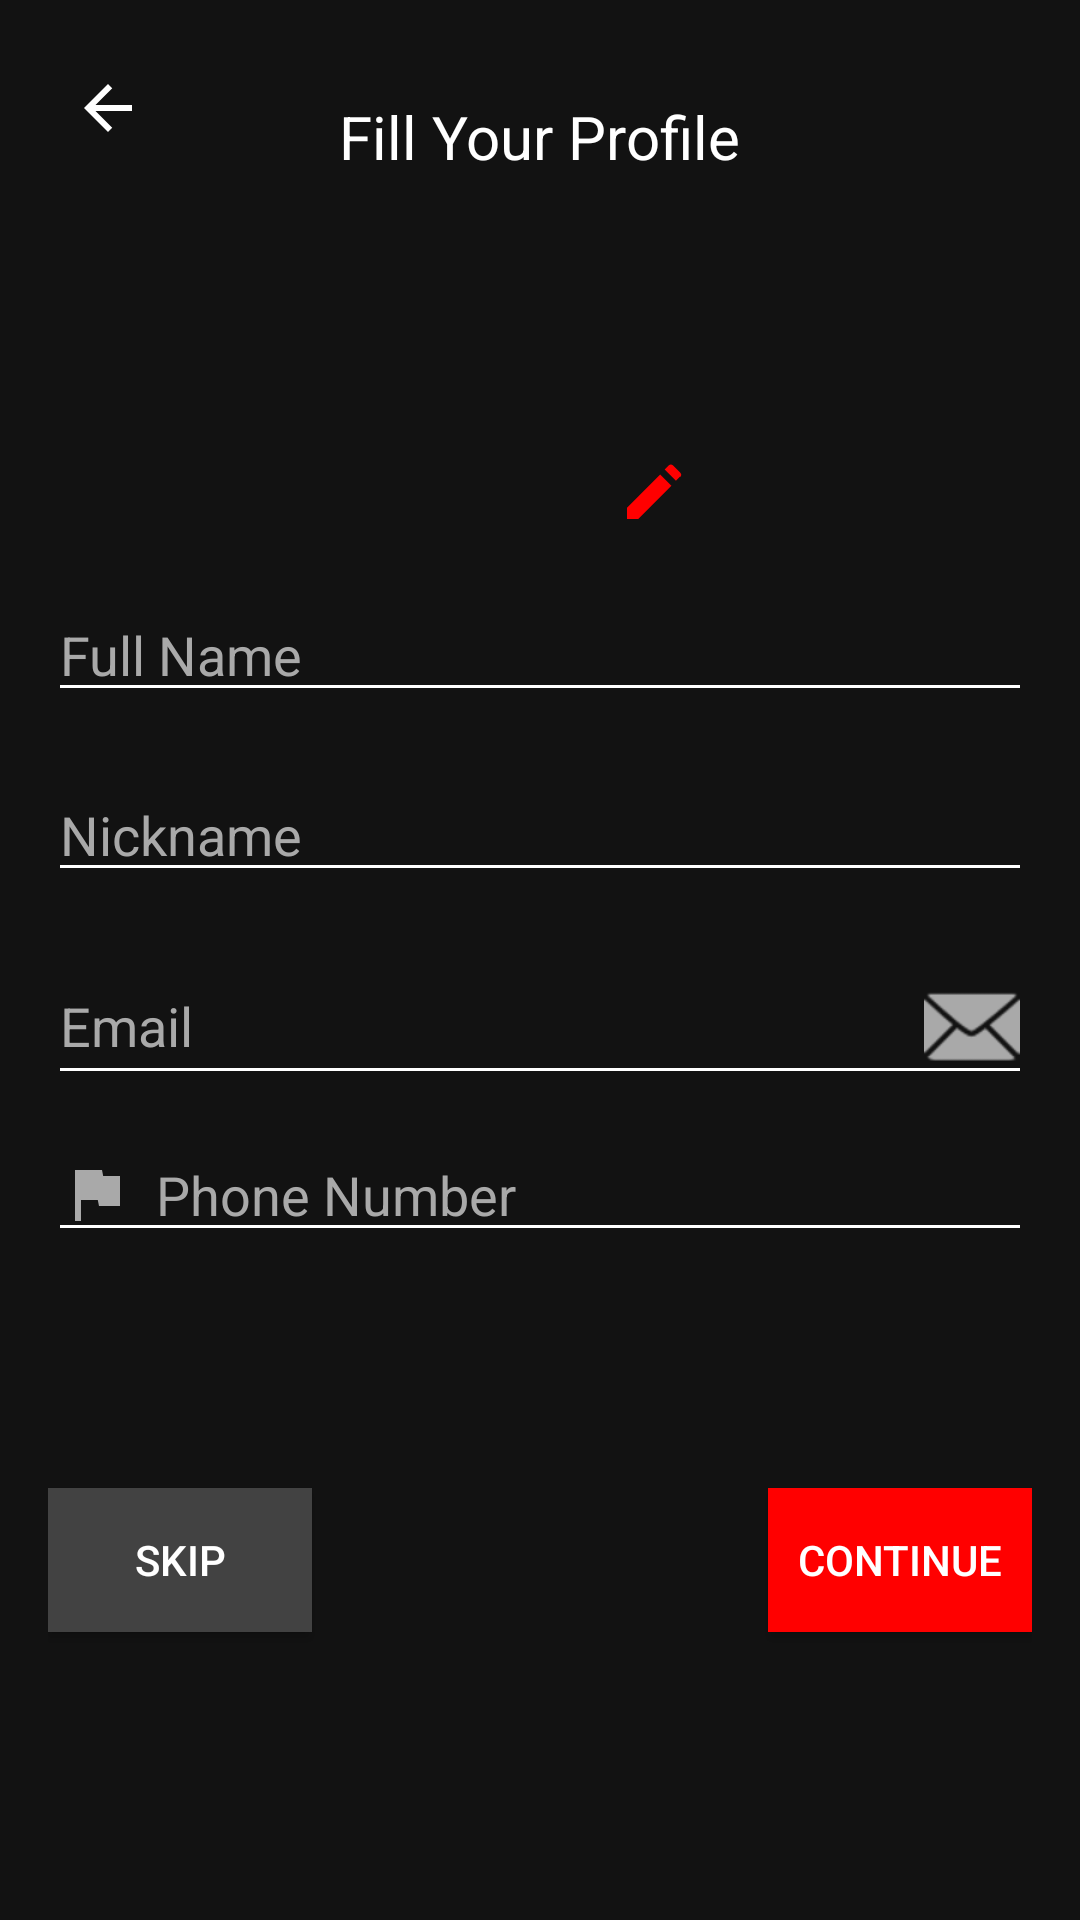

Where to tap for icons on this 1080 x 1920 app screen, as (x,y):
Back: (108,108)
Edit Profile Image: (654,491)
